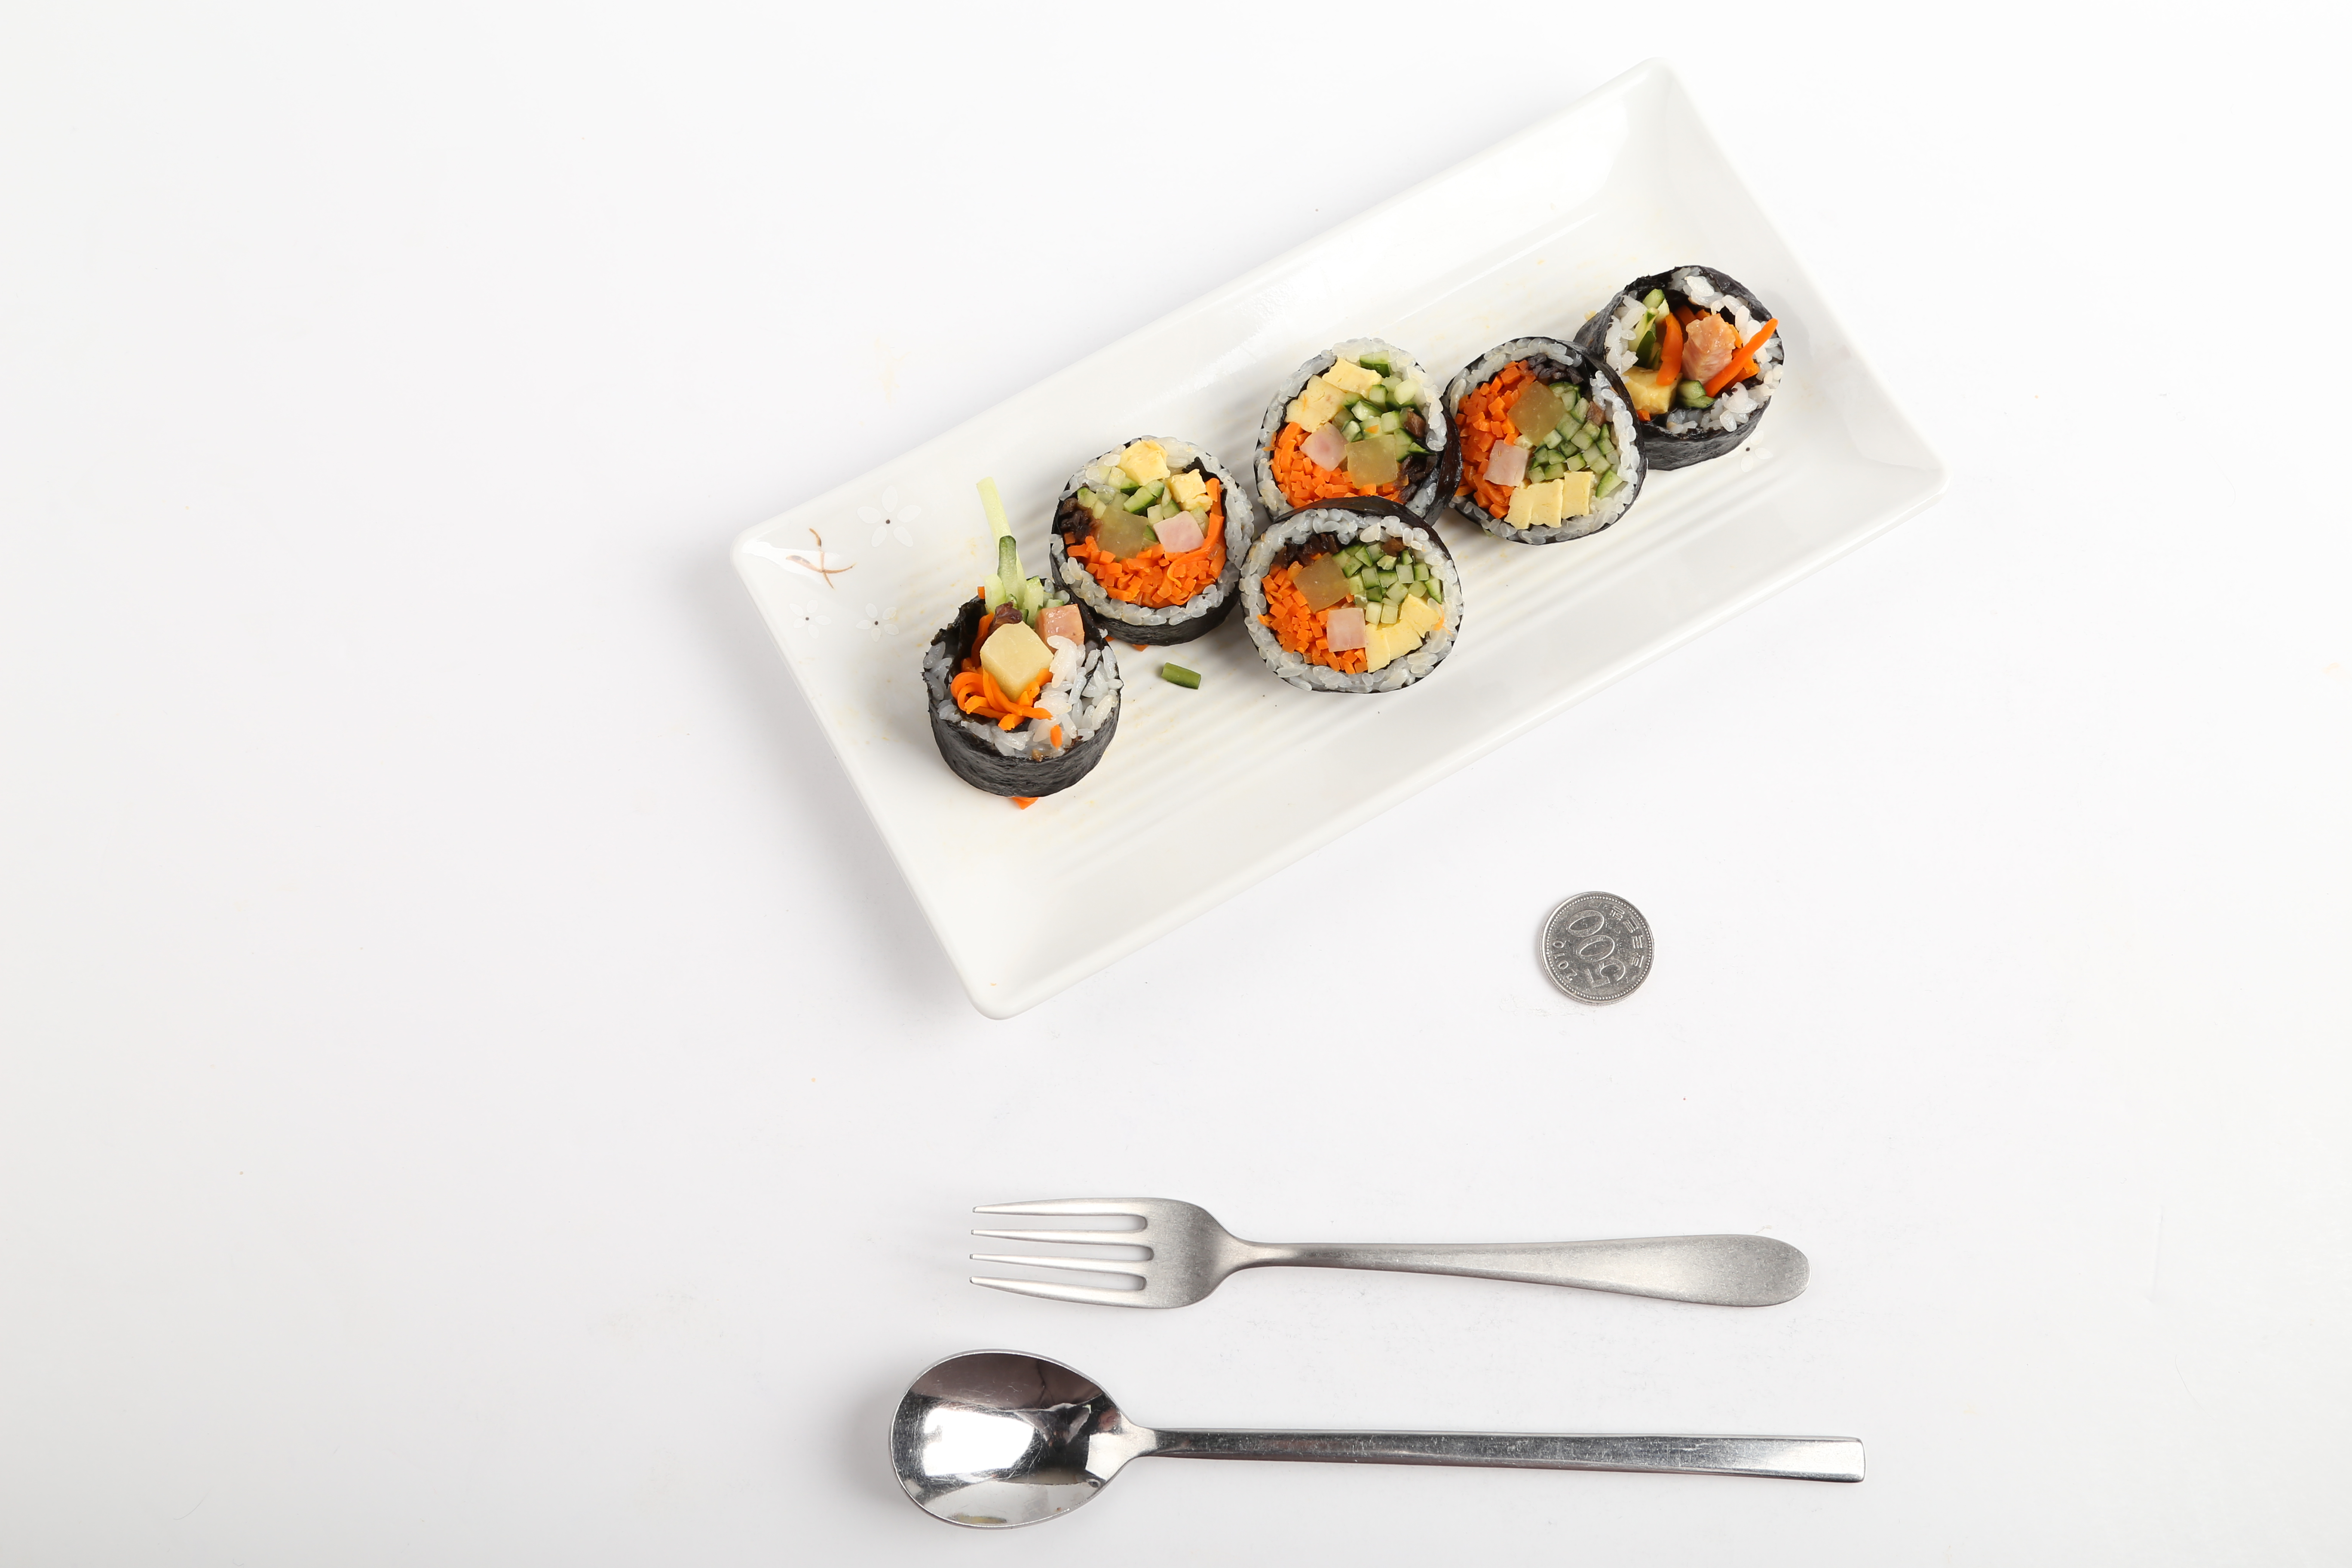dish: (735, 56, 1948, 1024)
ref_coin: (1528, 880, 1657, 1011)
ref_fork: (968, 1197, 1279, 1311)
ref_spoon: (882, 1342, 1195, 1535)
김밥: (920, 257, 1778, 796)
